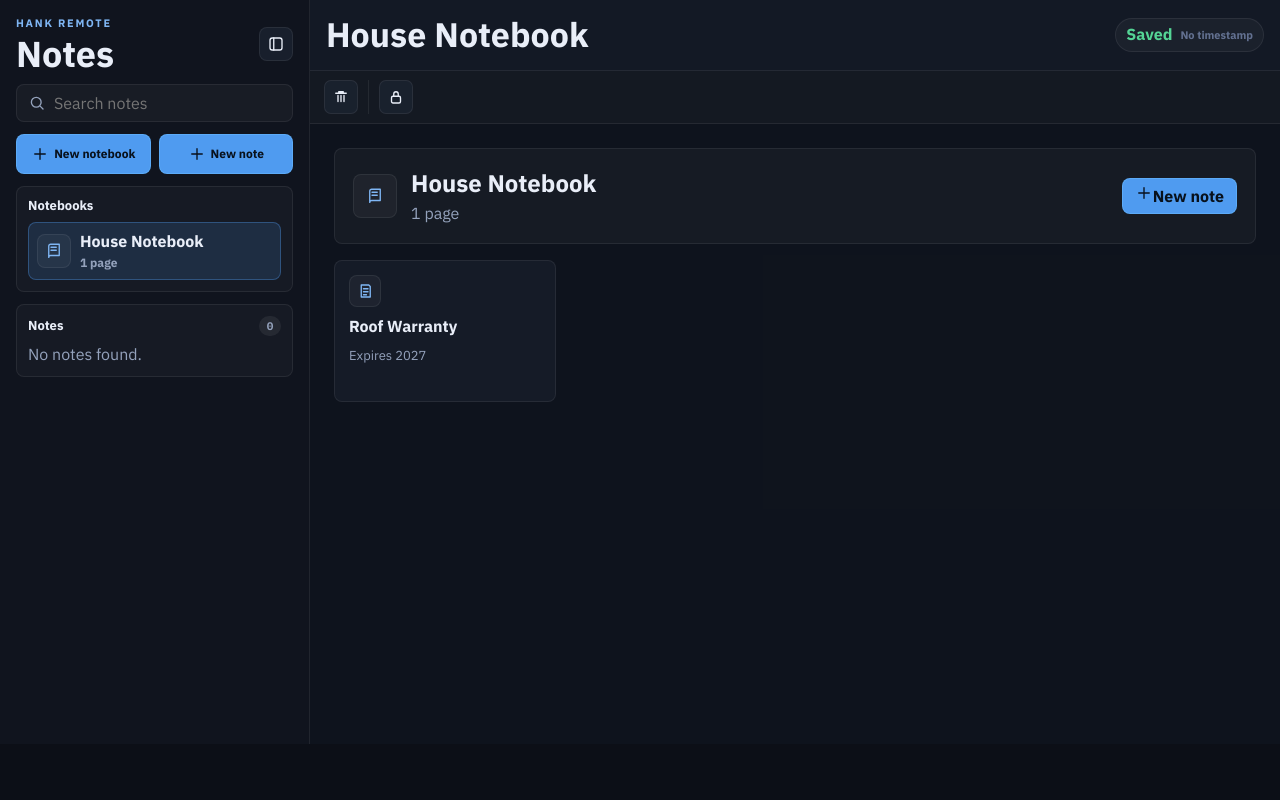
Scenario: ProfileNotesPage › opens notebook child pages from the notebook section
Click the button with aria-label "Open Roof Warranty" at (445, 331), box x1=334 y1=260 x2=556 y2=402
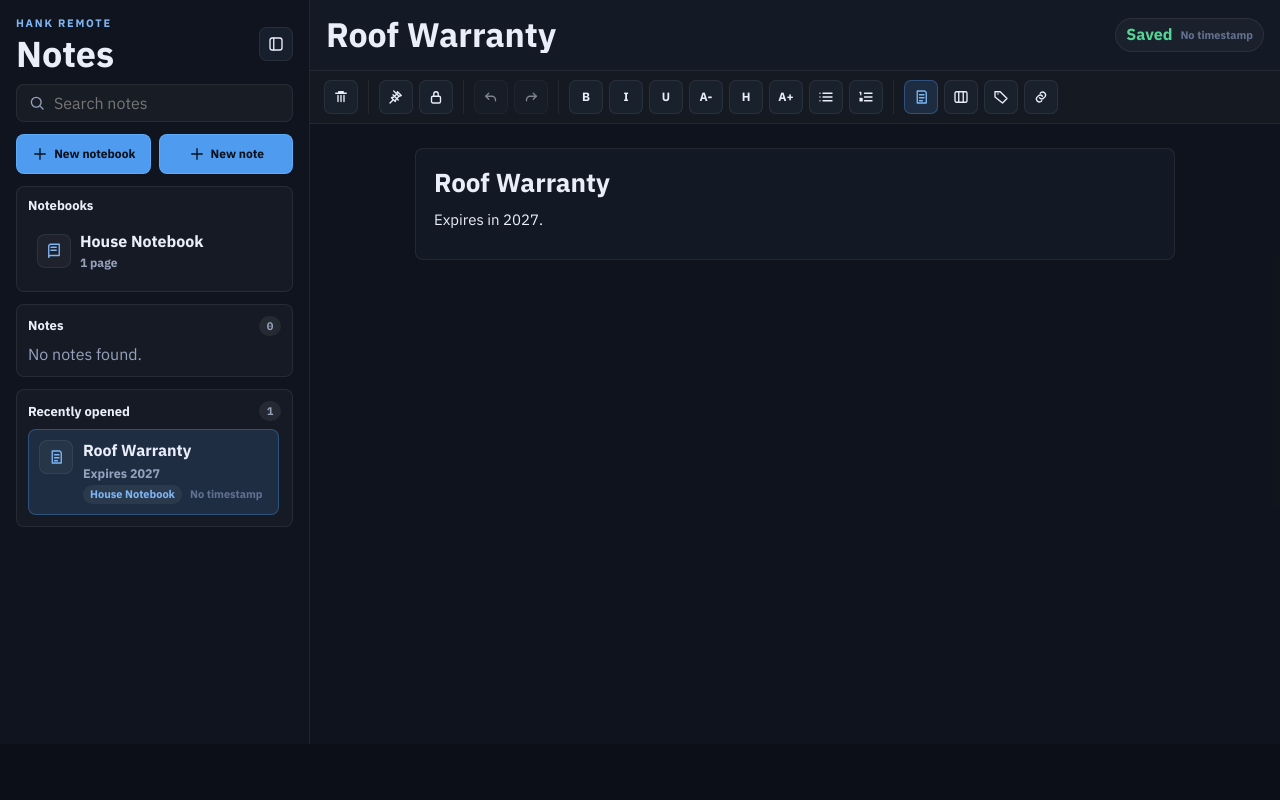
Expected: the field showing "Roof Warranty" is shown, x1=326 y1=14 x2=1105 y2=56
Expected: the field named "Note body" shows "Roof Warranty", x1=415 y1=148 x2=1175 y2=260
Click the button with aria-label "Open notebook House Notebook" at (154, 251), box x1=28 y1=222 x2=281 y2=280
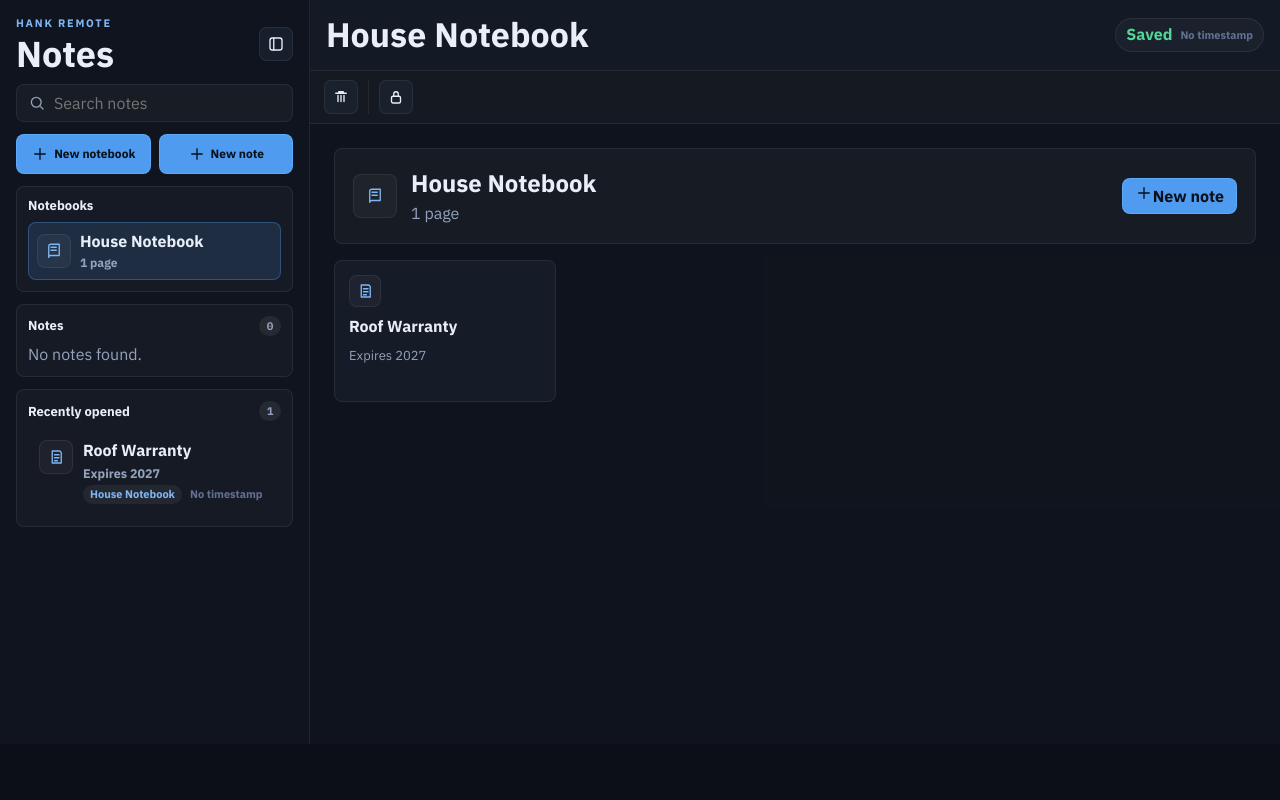
Click the button with aria-label "Open Roof Warranty" at (445, 331), box x1=334 y1=260 x2=556 y2=402
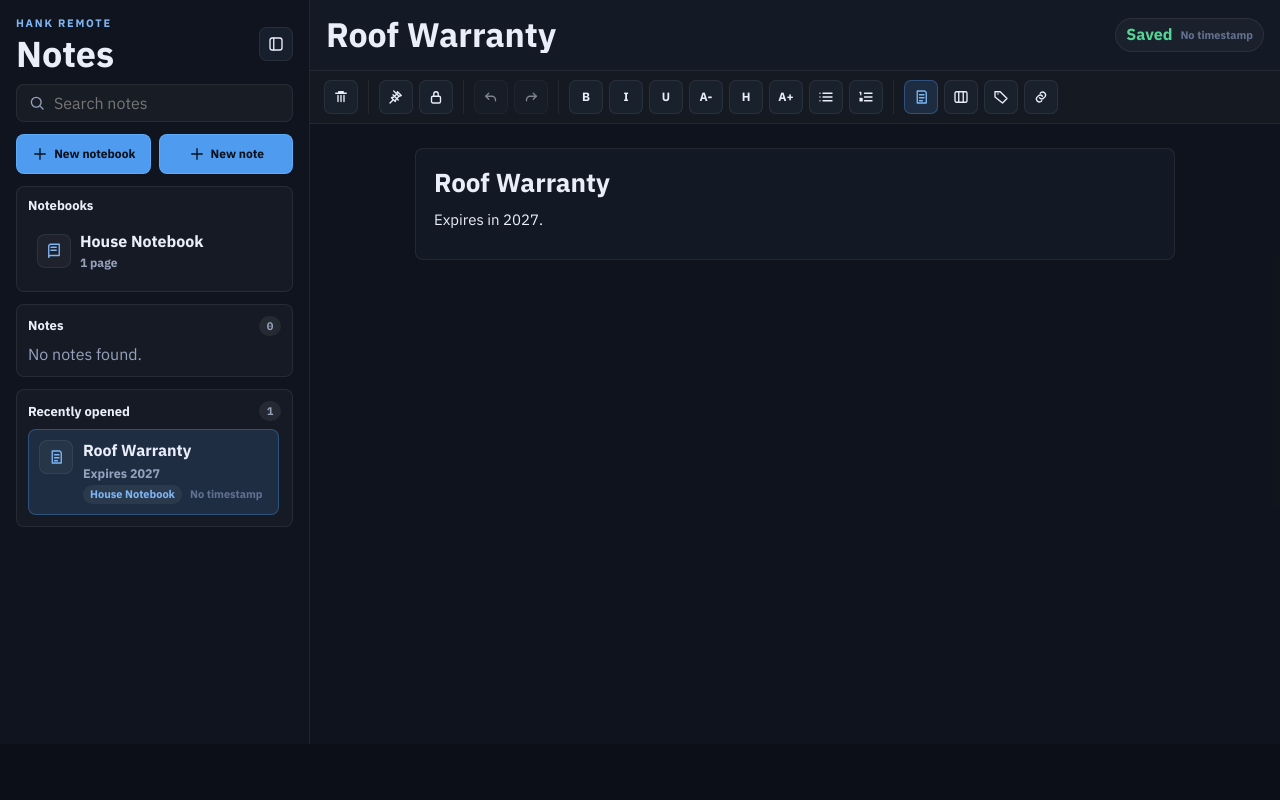
Expected: the field showing "Roof Warranty" is shown, x1=326 y1=14 x2=1105 y2=56
Expected: the field named "Note body" shows "Roof Warranty", x1=415 y1=148 x2=1175 y2=260
